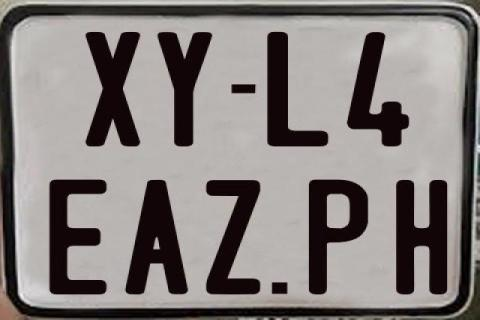0: (345, 32, 410, 150)
A: (124, 178, 189, 298)
E: (47, 177, 107, 297)
H: (394, 177, 450, 297)
L: (264, 32, 329, 150)
P: (309, 177, 368, 295)
X: (85, 31, 143, 149)
Y: (156, 31, 216, 149)
Z: (204, 178, 258, 292)
